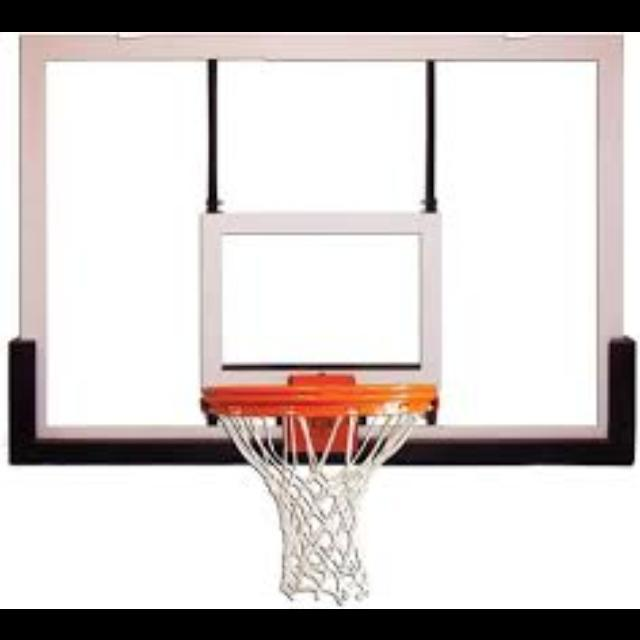rim: (202, 384, 434, 600)
